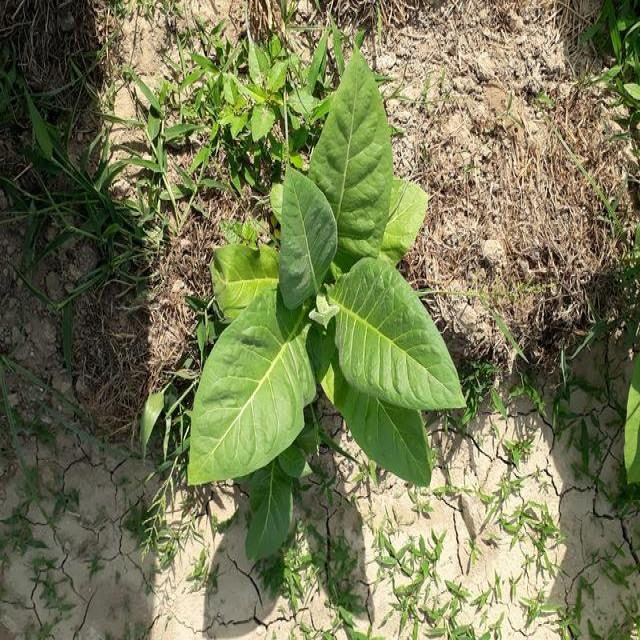crop: (190, 52, 458, 555)
